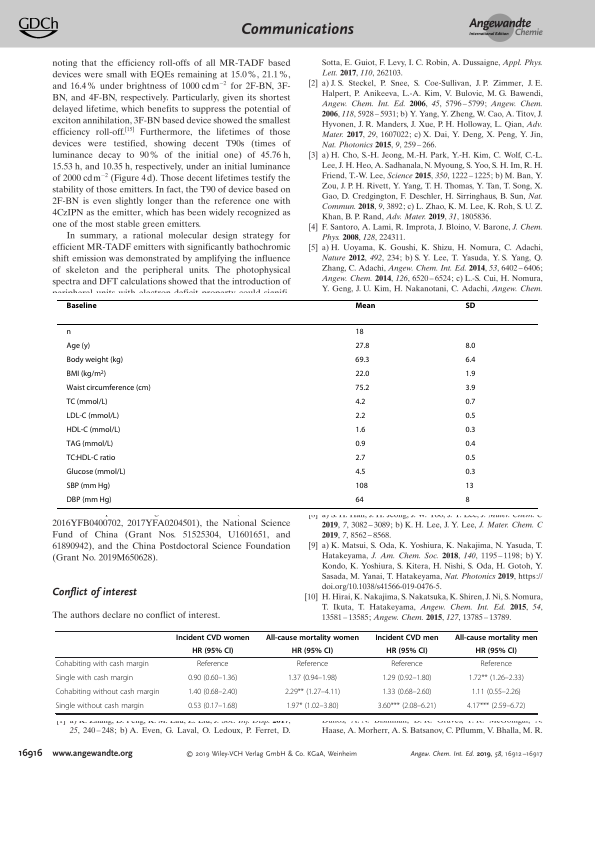borderless: (56, 298, 538, 508), (54, 629, 537, 713)
cell: (54, 687, 160, 697), (54, 659, 150, 669), (55, 701, 145, 711), (66, 383, 152, 393), (265, 633, 360, 642), (54, 673, 134, 683), (454, 633, 538, 642), (175, 633, 250, 642), (66, 467, 127, 477), (377, 701, 437, 711), (466, 701, 526, 711), (374, 633, 439, 642), (66, 355, 124, 365), (468, 673, 525, 683), (284, 687, 341, 697), (66, 425, 121, 435), (66, 411, 120, 421), (285, 701, 339, 711), (187, 673, 238, 683), (287, 673, 338, 683), (381, 673, 432, 683), (187, 687, 238, 697), (381, 687, 432, 697), (471, 687, 522, 697), (187, 701, 238, 711), (66, 453, 116, 463), (66, 439, 114, 449), (66, 495, 112, 505), (66, 481, 111, 491), (191, 646, 234, 656), (291, 646, 334, 656), (385, 646, 428, 656), (475, 646, 518, 656), (66, 397, 108, 407), (66, 369, 107, 379), (390, 659, 424, 669), (479, 659, 513, 669), (196, 659, 229, 669), (296, 659, 329, 669), (66, 301, 98, 309), (66, 341, 91, 351), (354, 301, 376, 309), (354, 341, 370, 351), (354, 355, 370, 365), (354, 369, 370, 379), (354, 383, 370, 393), (354, 481, 369, 491), (464, 341, 476, 351), (464, 355, 476, 365), (464, 369, 476, 379), (464, 383, 476, 393), (354, 397, 366, 407), (464, 397, 476, 407), (354, 411, 366, 421), (464, 411, 476, 421), (354, 425, 366, 435), (464, 425, 476, 435), (354, 439, 366, 449), (464, 439, 476, 449), (354, 453, 366, 463), (464, 453, 476, 463), (354, 467, 366, 477), (354, 327, 365, 337), (465, 467, 476, 477), (464, 481, 475, 491), (354, 495, 365, 505), (464, 301, 476, 309), (464, 495, 471, 505), (66, 327, 72, 337)
